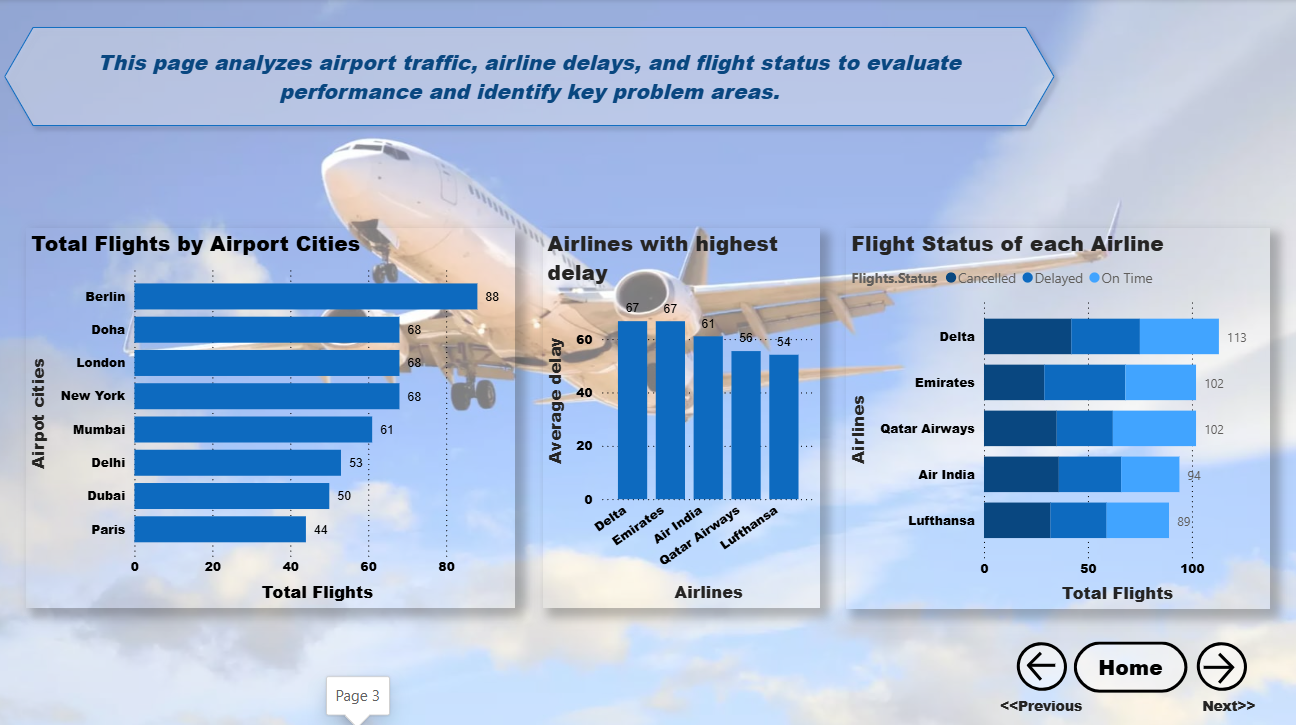

The dashboard page shown, as its layout file describes it:
{"tool":"powerbi","page":{"name":"Page 3","canvas":[1280,720],"ordinal":2},"visuals":[{"type":"clusteredBarChart","title":"Total Flights by Airport Cities","fields":{"Category":["Airpots.Airports.City"],"Y":["Flights.Total Flights"]},"box":[30.7,224.5,479.8,373],"z":0},{"type":"columnChart","title":"Airlines with highest delay","fields":{"Category":["Airlines.Airlines.Airline_Name"],"Y":["Flights.Avg Delay"]},"box":[537.4,224.5,272.4,373],"z":1000},{"type":"barChart","title":"Flight Status of each Airline","fields":{"Category":["Airlines.Airlines.Airline_Name"],"Y":["Flights.Total Flights"],"Series":["Flights.Flights.Status"]},"box":[835.6,224.5,416,374.2],"z":2000},{"type":"actionButton","box":[1058.9,630.7,111.7,50.3],"z":3000},{"type":"actionButton","box":[996.3,625.8,62.6,58.9],"z":4000},{"type":"actionButton","box":[1173,625.8,62.6,58.9],"z":5000},{"type":"actionButton","box":[1008.6,634.4,38,40.5],"z":6000},{"type":"actionButton","box":[1180.4,636.8,55.2,40.5],"z":7000},{"type":"textbox","title":"<<Previous","box":[981.6,684.7,92,27],"z":8000},{"type":"textbox","title":"Next>>","box":[1173,684.7,76.1,27],"z":9000},{"type":"shape","box":[0,18.4,1049.1,115.3],"z":10000}]}

Visuals, with their boxes in screenshot pixels (x1, y1, x2, y2), scaled from the page's 1280x720 canvas onto the 1296x725 screenshot:
"Total Flights by Airport Cities" clusteredBarChart: [31, 226, 517, 602]
"Airlines with highest delay" columnChart: [544, 226, 820, 602]
"Flight Status of each Airline" barChart: [846, 226, 1267, 603]
actionButton: [1072, 635, 1185, 686]
actionButton: [1009, 630, 1072, 689]
actionButton: [1188, 630, 1251, 689]
actionButton: [1021, 639, 1060, 680]
actionButton: [1195, 641, 1251, 682]
"<<Previous" textbox: [994, 689, 1087, 717]
"Next>>" textbox: [1188, 689, 1265, 717]
shape: [0, 19, 1062, 135]
